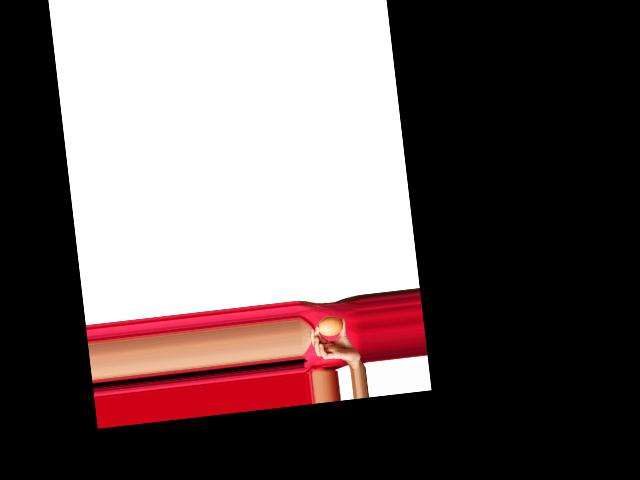egg: (316, 315, 344, 337)
